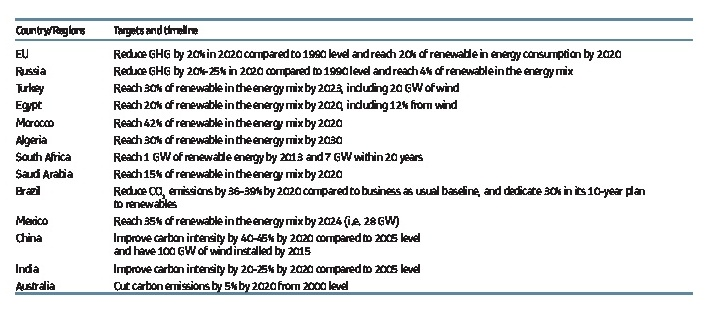table: (0, 0, 707, 312)
